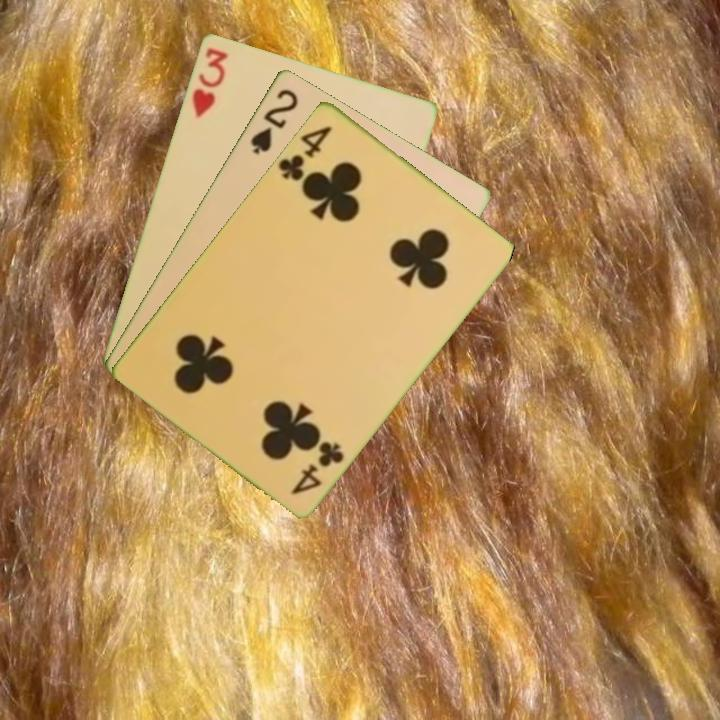2s: (246, 84, 301, 157)
3h: (188, 44, 230, 121)
4c: (274, 121, 335, 187), (287, 436, 347, 497)
